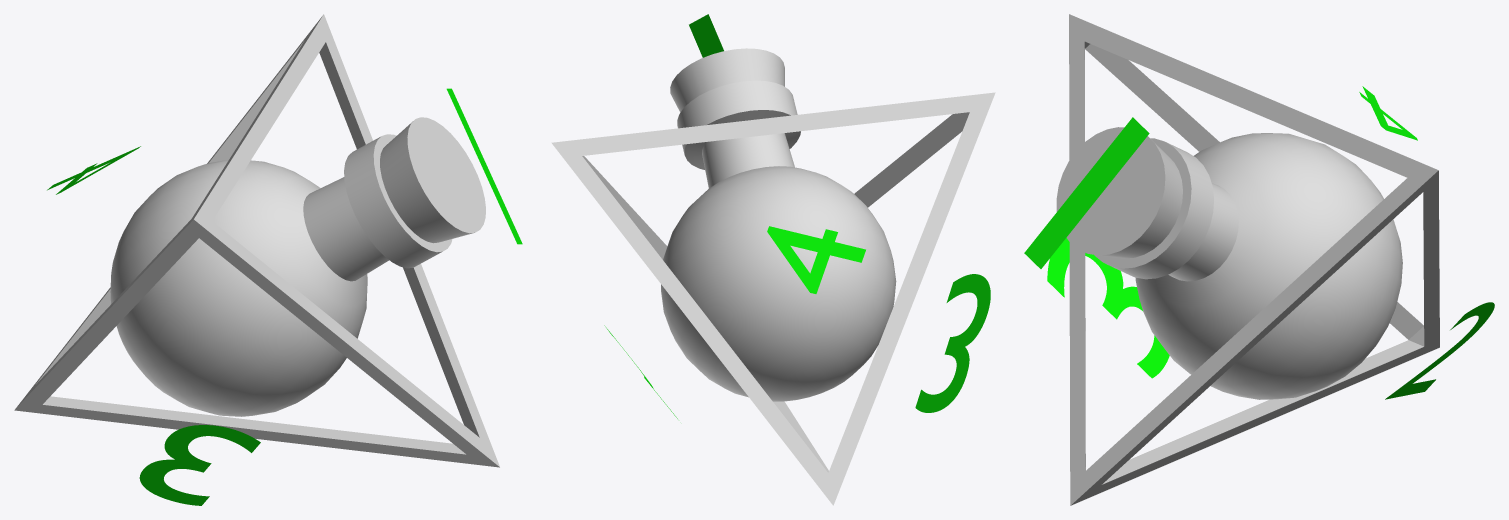
Rendered from potion_d4.glb.
3 renders of one model, left to right at view 1: azimuth 30°, elevation 25°; view 2: azimuth 150°, elevation 25°; view 3: azimuth 270°, elevation 25°, orthographic. The views are drawn at different scales.
Visible parts, largest first — view 1: Sphere, Solid.001, Text.003, Text; view 2: Sphere, Solid.001, Text.003, Text.001, Text; view 3: Sphere, Solid.001, Text, Text.003, Text.002, Text.001.
Part boxes in pixels (<box>): Sphere: <box>110,117,485,416</box>; Solid.001: <box>14,14,499,467</box>; Text.003: <box>139,425,260,505</box>; Text: <box>446,88,522,244</box>; Sphere: <box>661,48,896,401</box>; Solid.001: <box>551,92,995,505</box>; Text.003: <box>915,274,990,412</box>; Text.001: <box>767,226,865,293</box>; Text: <box>689,14,723,57</box>; Sphere: <box>1056,127,1402,399</box>; Solid.001: <box>1069,14,1439,505</box>; Text: <box>1024,117,1149,268</box>; Text.003: <box>1047,238,1169,378</box>; Text.002: <box>1385,302,1494,399</box>; Text.001: <box>1359,86,1417,140</box>.
Bounding box in the file's own units: 93.93 × 100 × 112.
